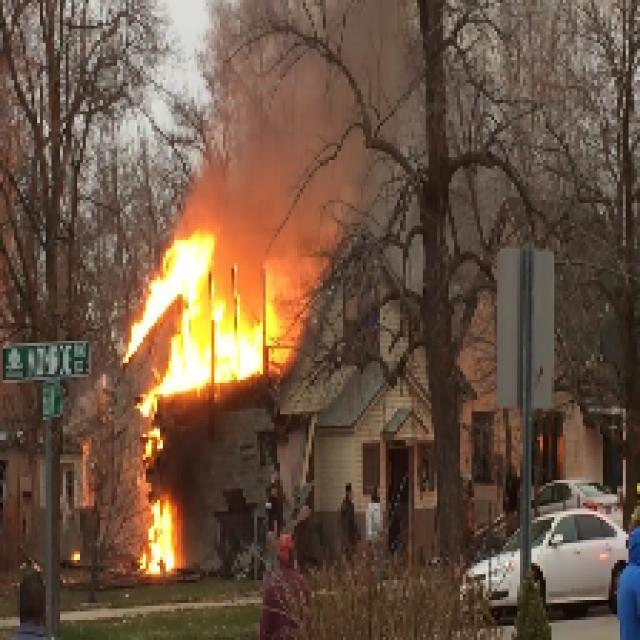Fire: (138, 245, 268, 400), (132, 414, 182, 584)
Smoke: (215, 35, 342, 232)
